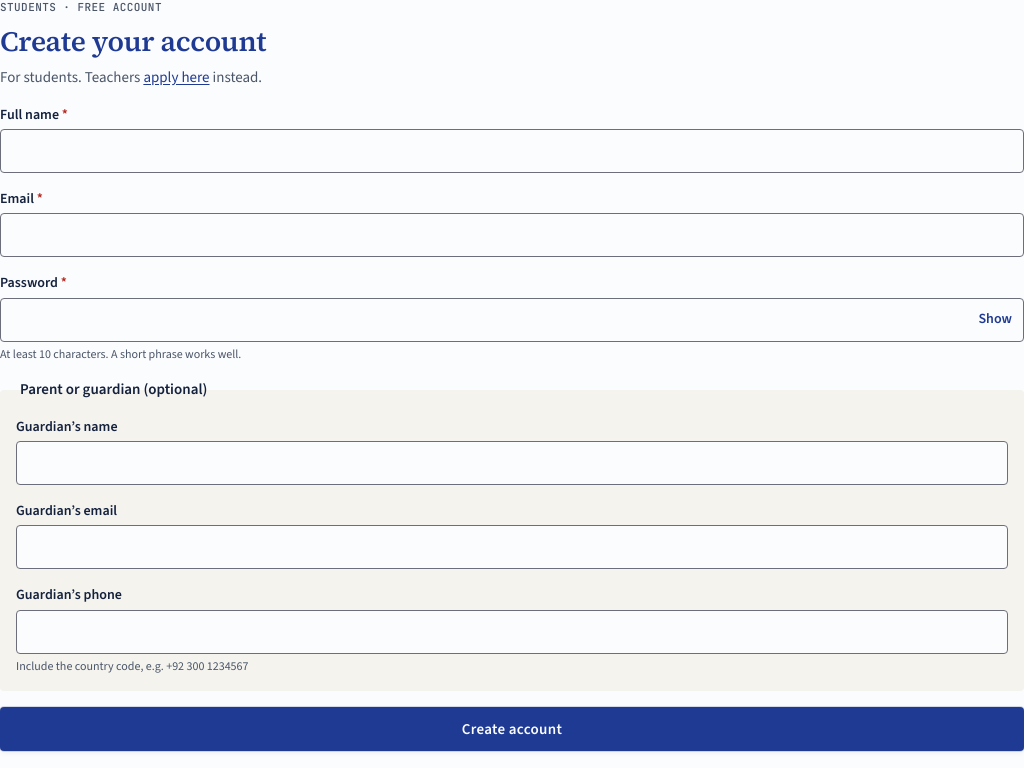
Test: RegisterForm › shows a taken email
Type "Ayesha Khan" into the field labelled "Full name *". click: (512, 151)
box: [0,129,1023,173]
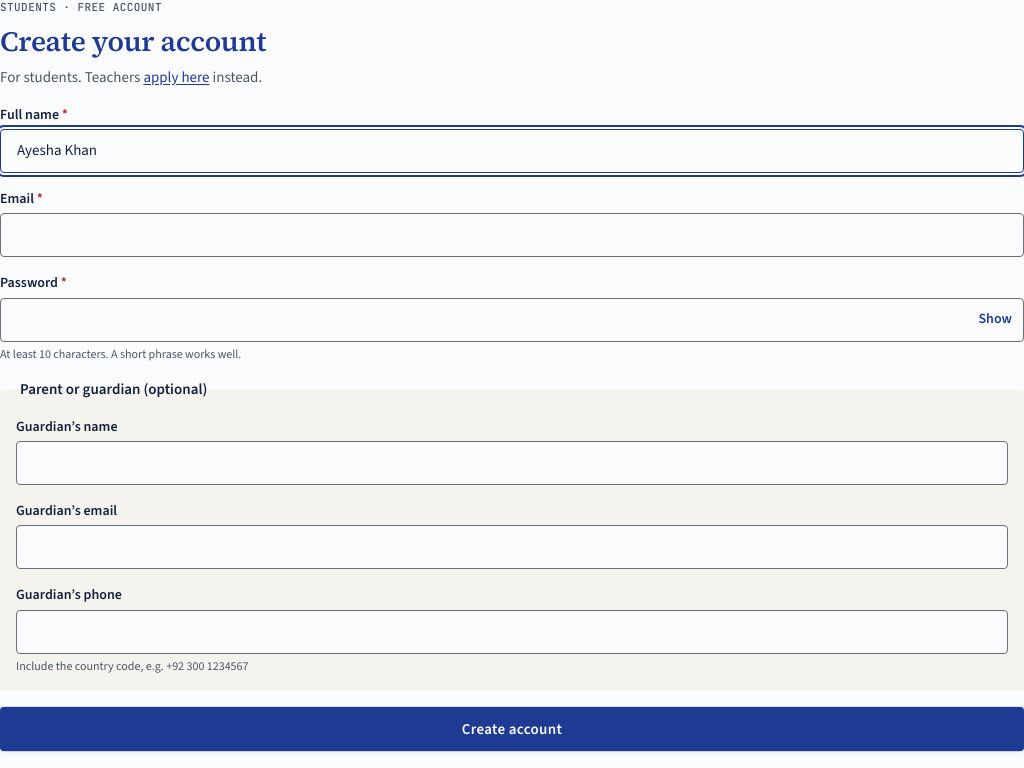
Type "ayesha@example.com" into the field labelled "Email *". click: (512, 235)
box: [0,213,1023,257]
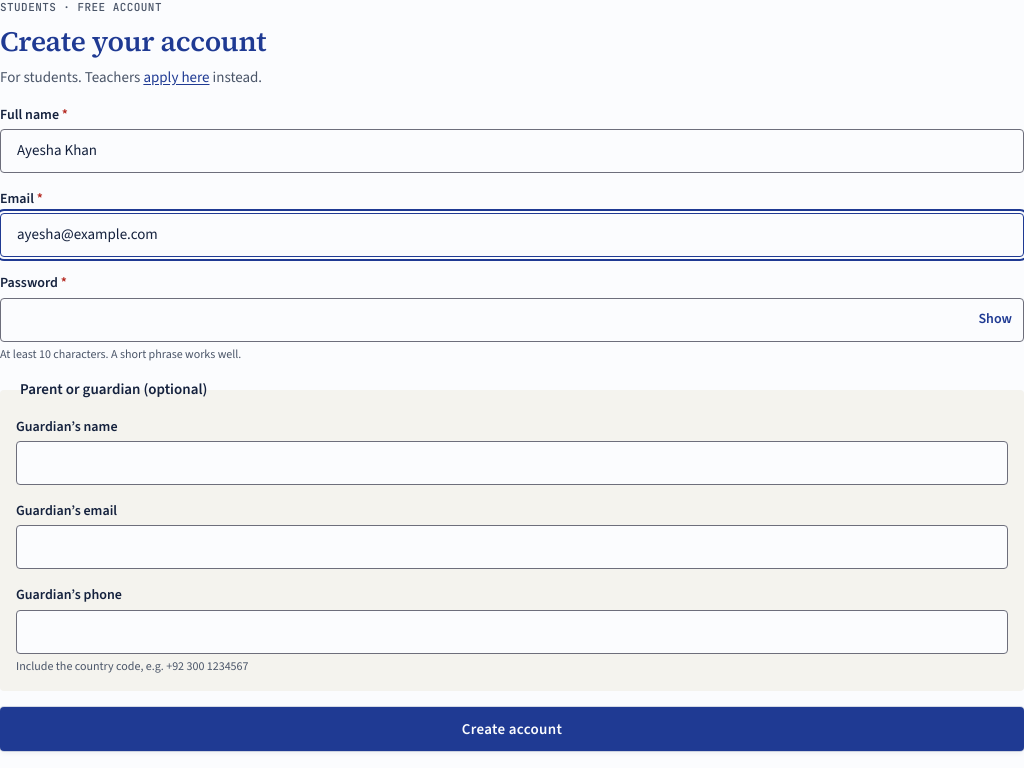
Type "a long passphrase" into the password field labelled "Password *". click: (512, 320)
box: [0,298,1023,342]
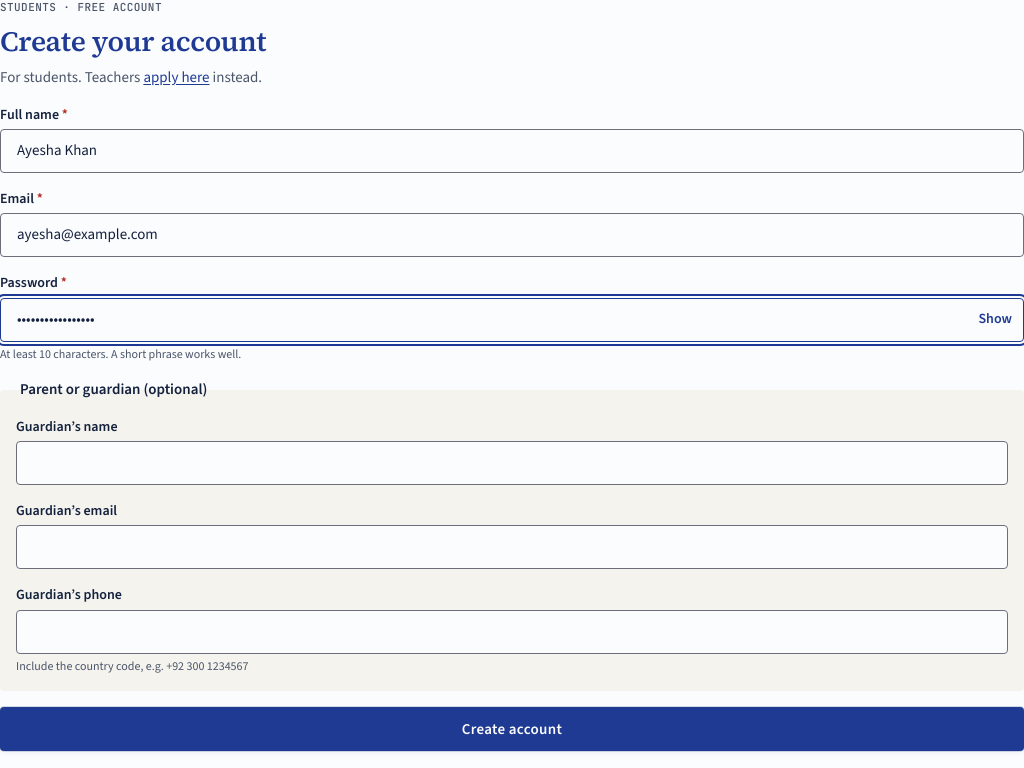
Click the button "Create account". click: (512, 729)
box: [0,707,1023,751]
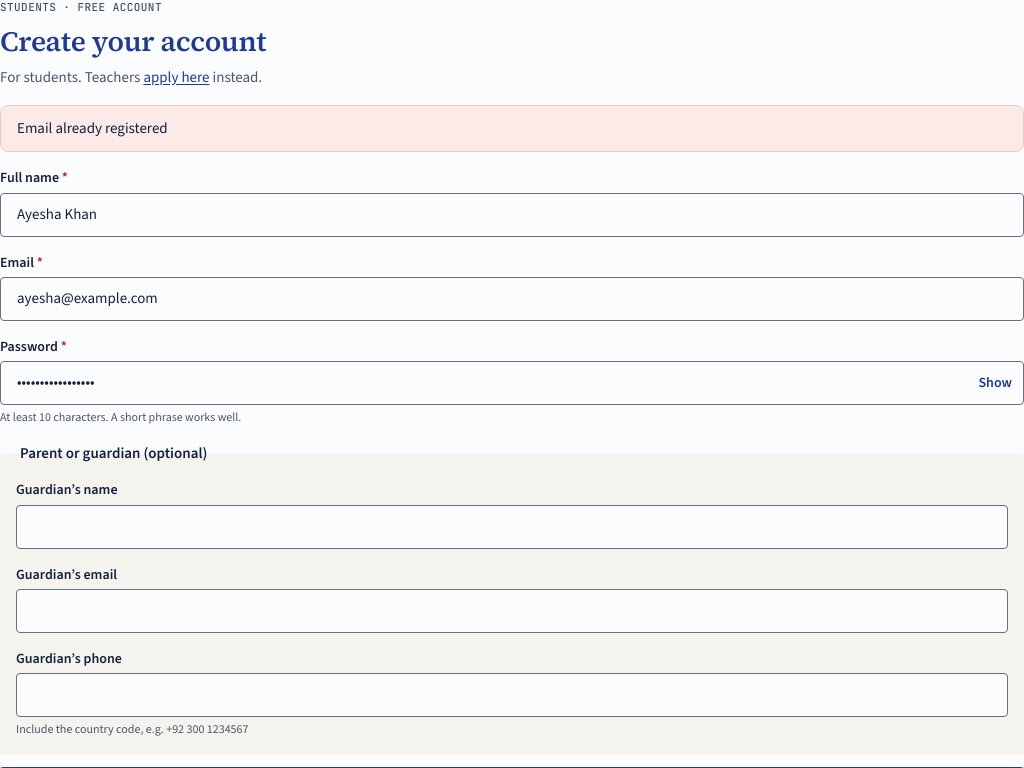
Expected: the message reads "Email already registered", [17,118,168,138]
